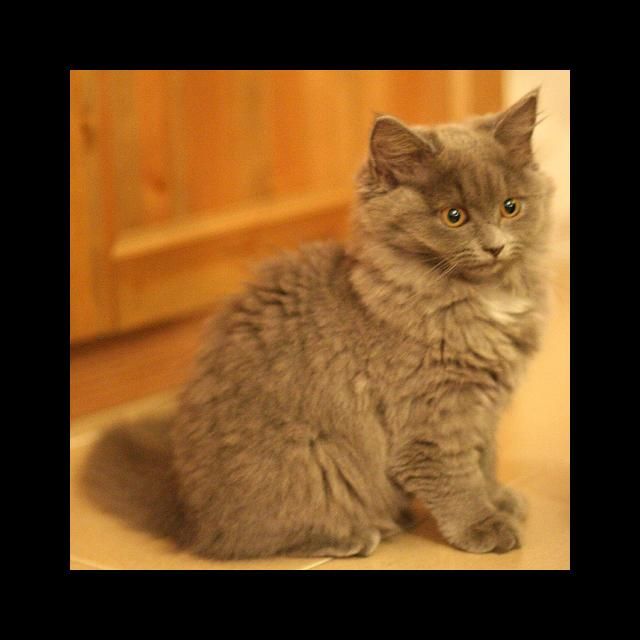animals: (378, 88, 536, 254)
